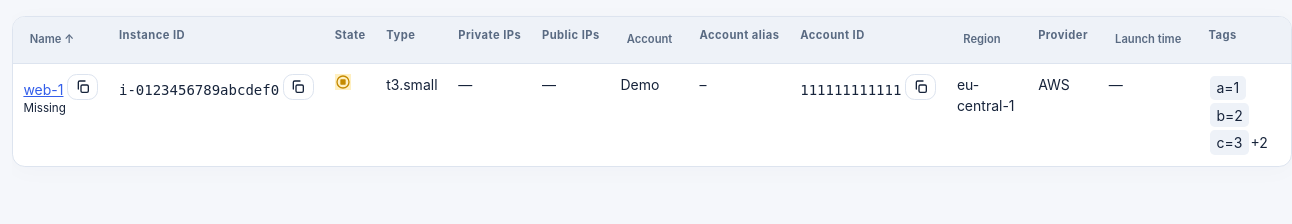
Test: null account alias is explicit and account ID copy failure stays inline
expect the text "–" is shown: met, box [689, 63, 790, 166]
Step 1. Click the button named "Copy account ID 111111111111" → (921, 87), box [905, 74, 936, 100]
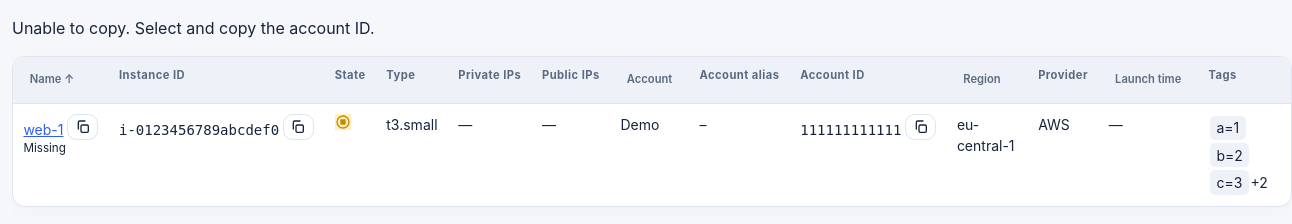
expect the text "Unable to copy. Select and copy the account ID." is shown: met, box [12, 18, 374, 38]
